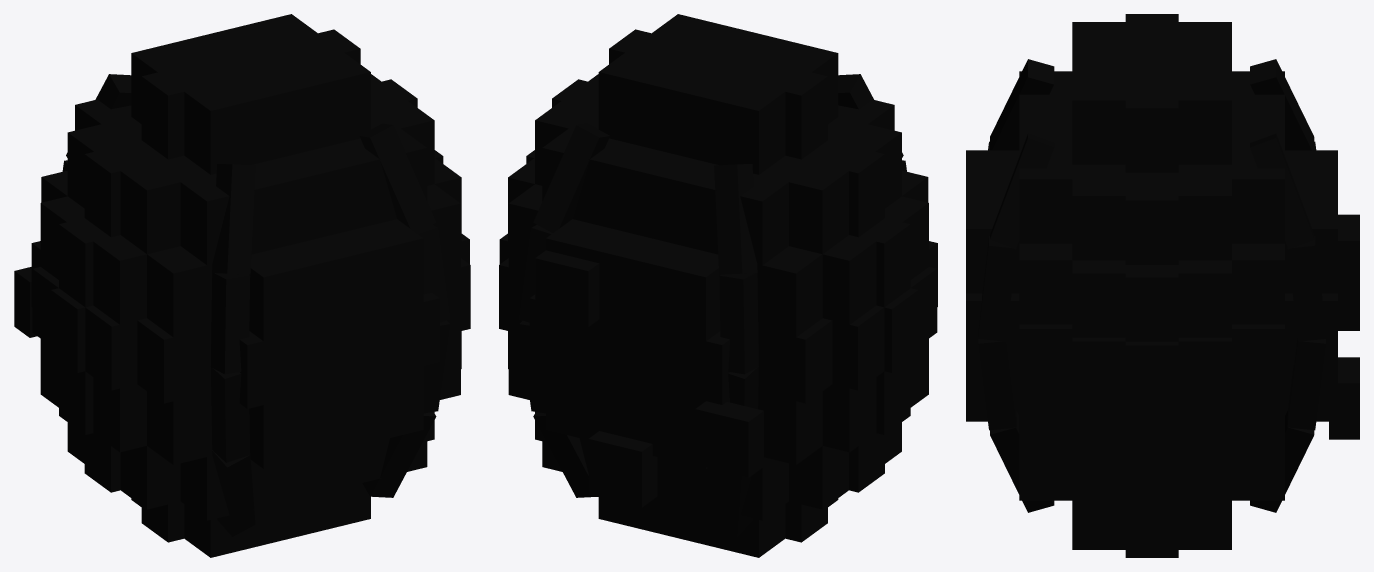
Rendered from spore_pod.obj.
The picture shows the model from 3 angles, left to right: view 1: azimuth 30°, elevation 25°; view 2: azimuth 150°, elevation 25°; view 3: azimuth 270°, elevation 25°; orthographic projection.
Bounding box in the file's own units: 0.7656 × 0.875 × 0.6945.
